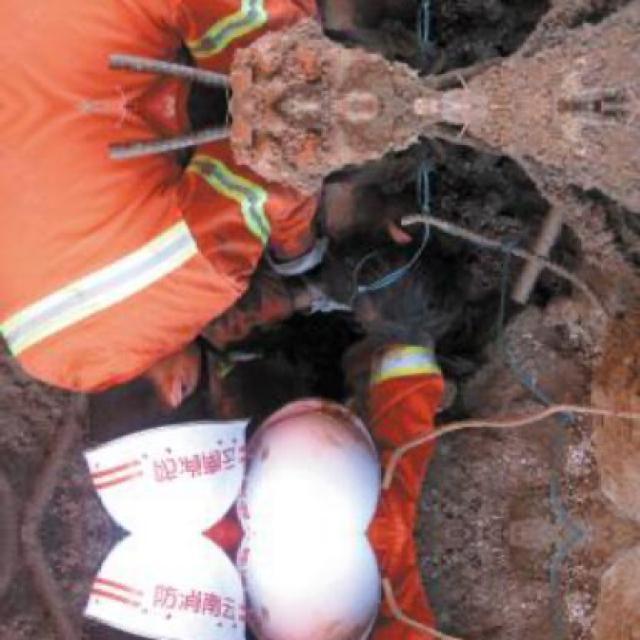con casco: (218, 389, 407, 564), (72, 365, 248, 545)
